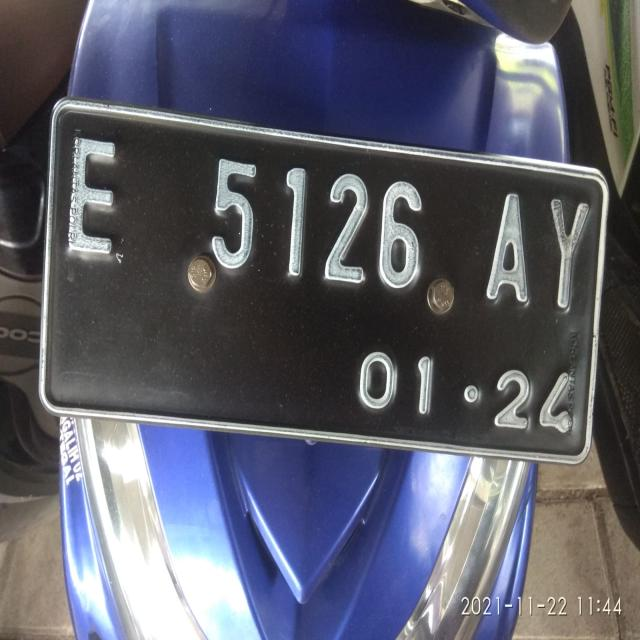plate: (48, 103, 609, 471)
